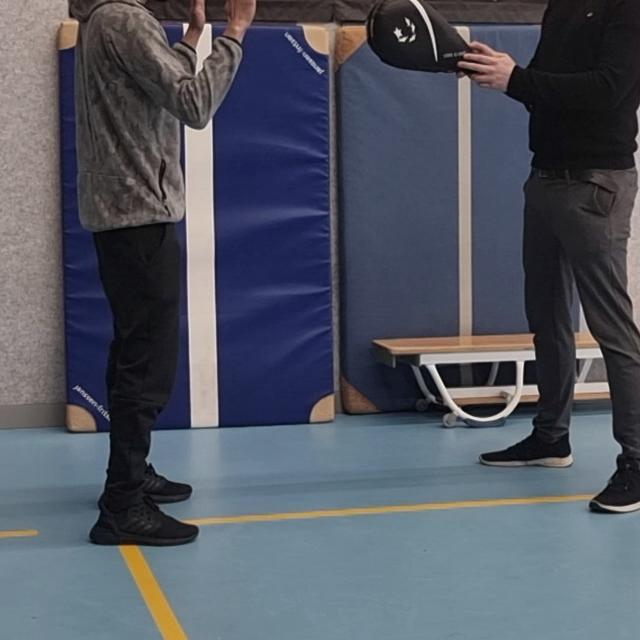paddle: (366, 0, 474, 73)
